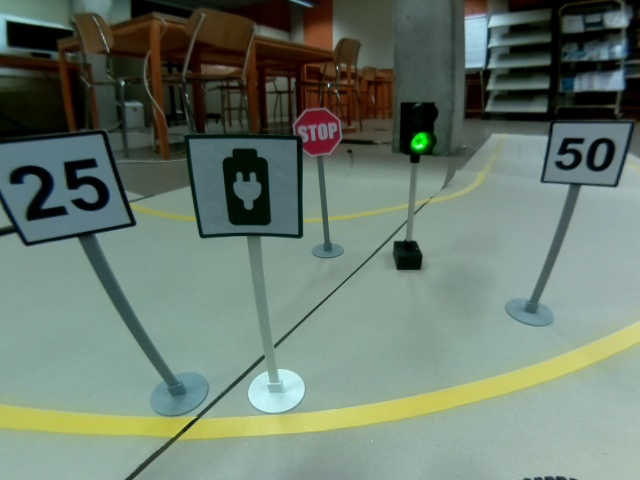battery: (185, 134, 303, 240)
speed25: (1, 129, 136, 246)
speed50: (540, 117, 636, 189)
stop: (292, 108, 342, 156)
trafficLightGreen: (398, 100, 438, 157)
